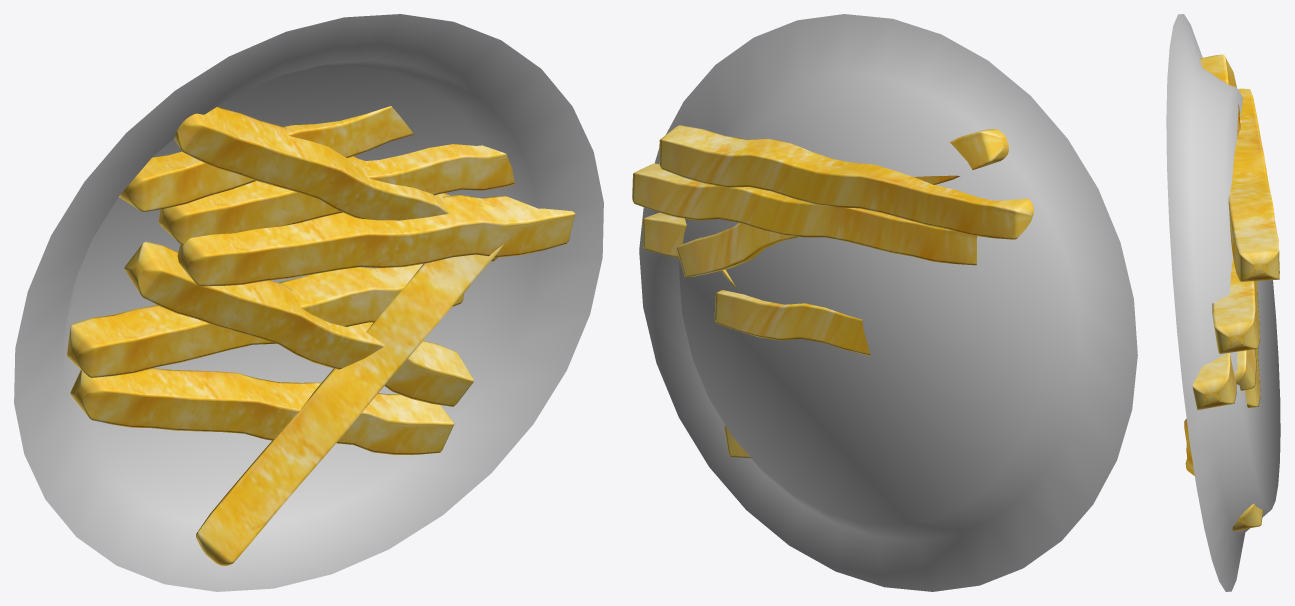
The model's file is FRIES.glb.
3 views of the same model, side by side, from view 1: azimuth 30°, elevation 25°; view 2: azimuth 150°, elevation 25°; view 3: azimuth 270°, elevation 25° (orthographic). The views are drawn at different scales.
Parts seen in each view (by area): view 1: Circle.002, Cube.004, Cube.007, Cube.001, Cube.003, Cube.002, Cube.005, Cube.006, Cube.008; view 2: Circle.002, Cube.008, Cube.006, Cube.002, Cube.005, Cube.004; view 3: Circle.002, Cube.008, Cube.006, Cube.004, Cube.005, Cube.001, Cube.002, Cube.007.
Part boxes in pixels (x1,y1,x2,y2): Circle.002: (14, 14, 603, 591); Cube.004: (177, 195, 575, 286); Cube.007: (196, 202, 503, 565); Cube.001: (70, 368, 454, 454); Cube.003: (124, 241, 474, 406); Cube.002: (67, 264, 464, 377); Cube.005: (174, 106, 497, 261); Cube.006: (158, 144, 514, 244); Cube.008: (119, 106, 414, 211); Circle.002: (639, 14, 1137, 591); Cube.008: (659, 125, 1033, 239); Cube.006: (632, 163, 977, 265); Cube.002: (714, 290, 870, 355); Cube.005: (676, 129, 1008, 277); Cube.004: (642, 212, 686, 258); Circle.002: (1166, 14, 1280, 591); Cube.008: (1228, 88, 1279, 281); Cube.006: (1212, 259, 1260, 354); Cube.004: (1192, 352, 1236, 409); Cube.005: (1200, 54, 1256, 390); Cube.001: (1232, 503, 1263, 531); Cube.002: (1245, 349, 1260, 407); Cube.007: (1184, 418, 1194, 475).
Size of the model in its own units: 3.62 by 3.6 by 0.7126.
9 materials, 8 textured.
